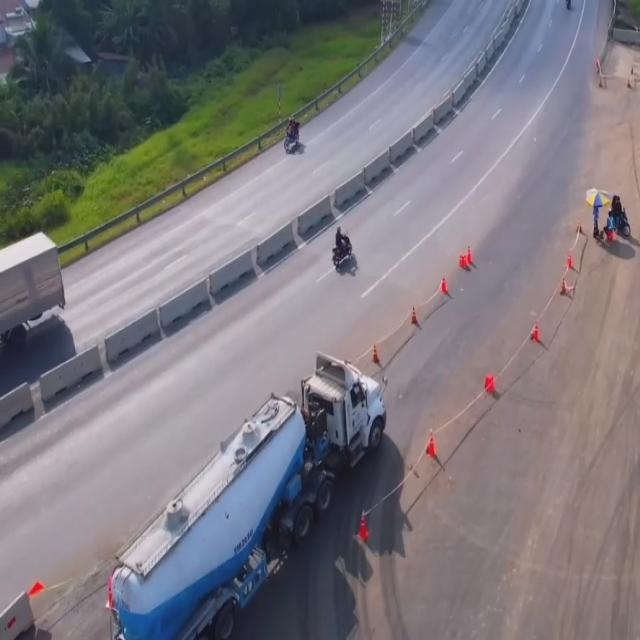motorbike: (330, 225, 353, 268), (283, 116, 303, 152)
truck: (109, 358, 385, 637), (0, 230, 64, 352)
